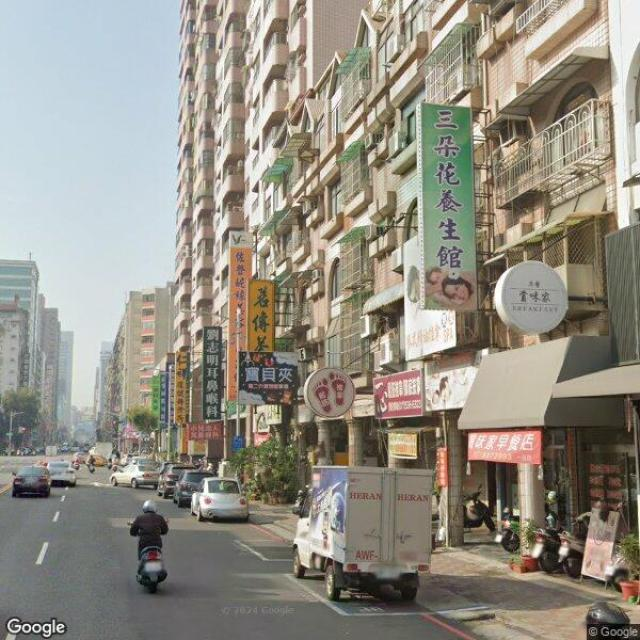Legalparking: (270, 458, 453, 616), (158, 453, 264, 521)
illegalparking: (110, 456, 157, 494)
